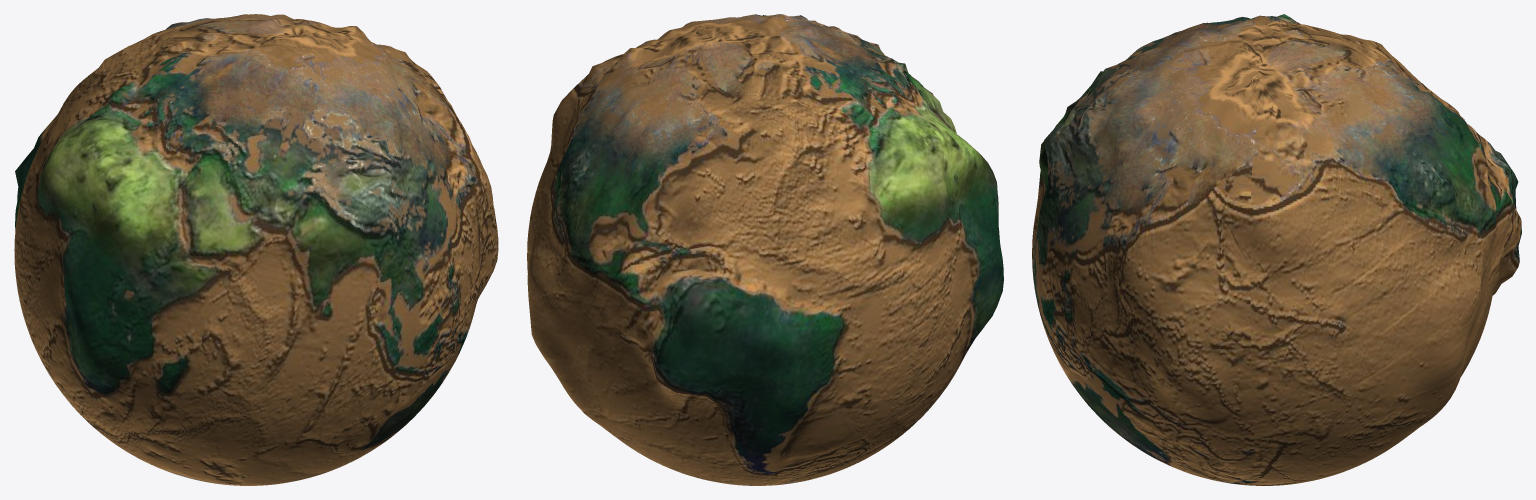
The model's file is earth_test.fbx.
3 renders of one model, left to right at view 1: azimuth 30°, elevation 25°; view 2: azimuth 150°, elevation 25°; view 3: azimuth 270°, elevation 25°, orthographic.
Parts seen in each view (by area): view 1: Earth; view 2: Earth; view 3: Earth.
Boxes of the visible parts, x1,y1,x2,y2 form: Earth: (14,14,498,485); Earth: (527,14,1003,485); Earth: (1032,14,1521,485).
Size of the model in its own units: 205 by 202 by 211.
1 material, 1 textured.
